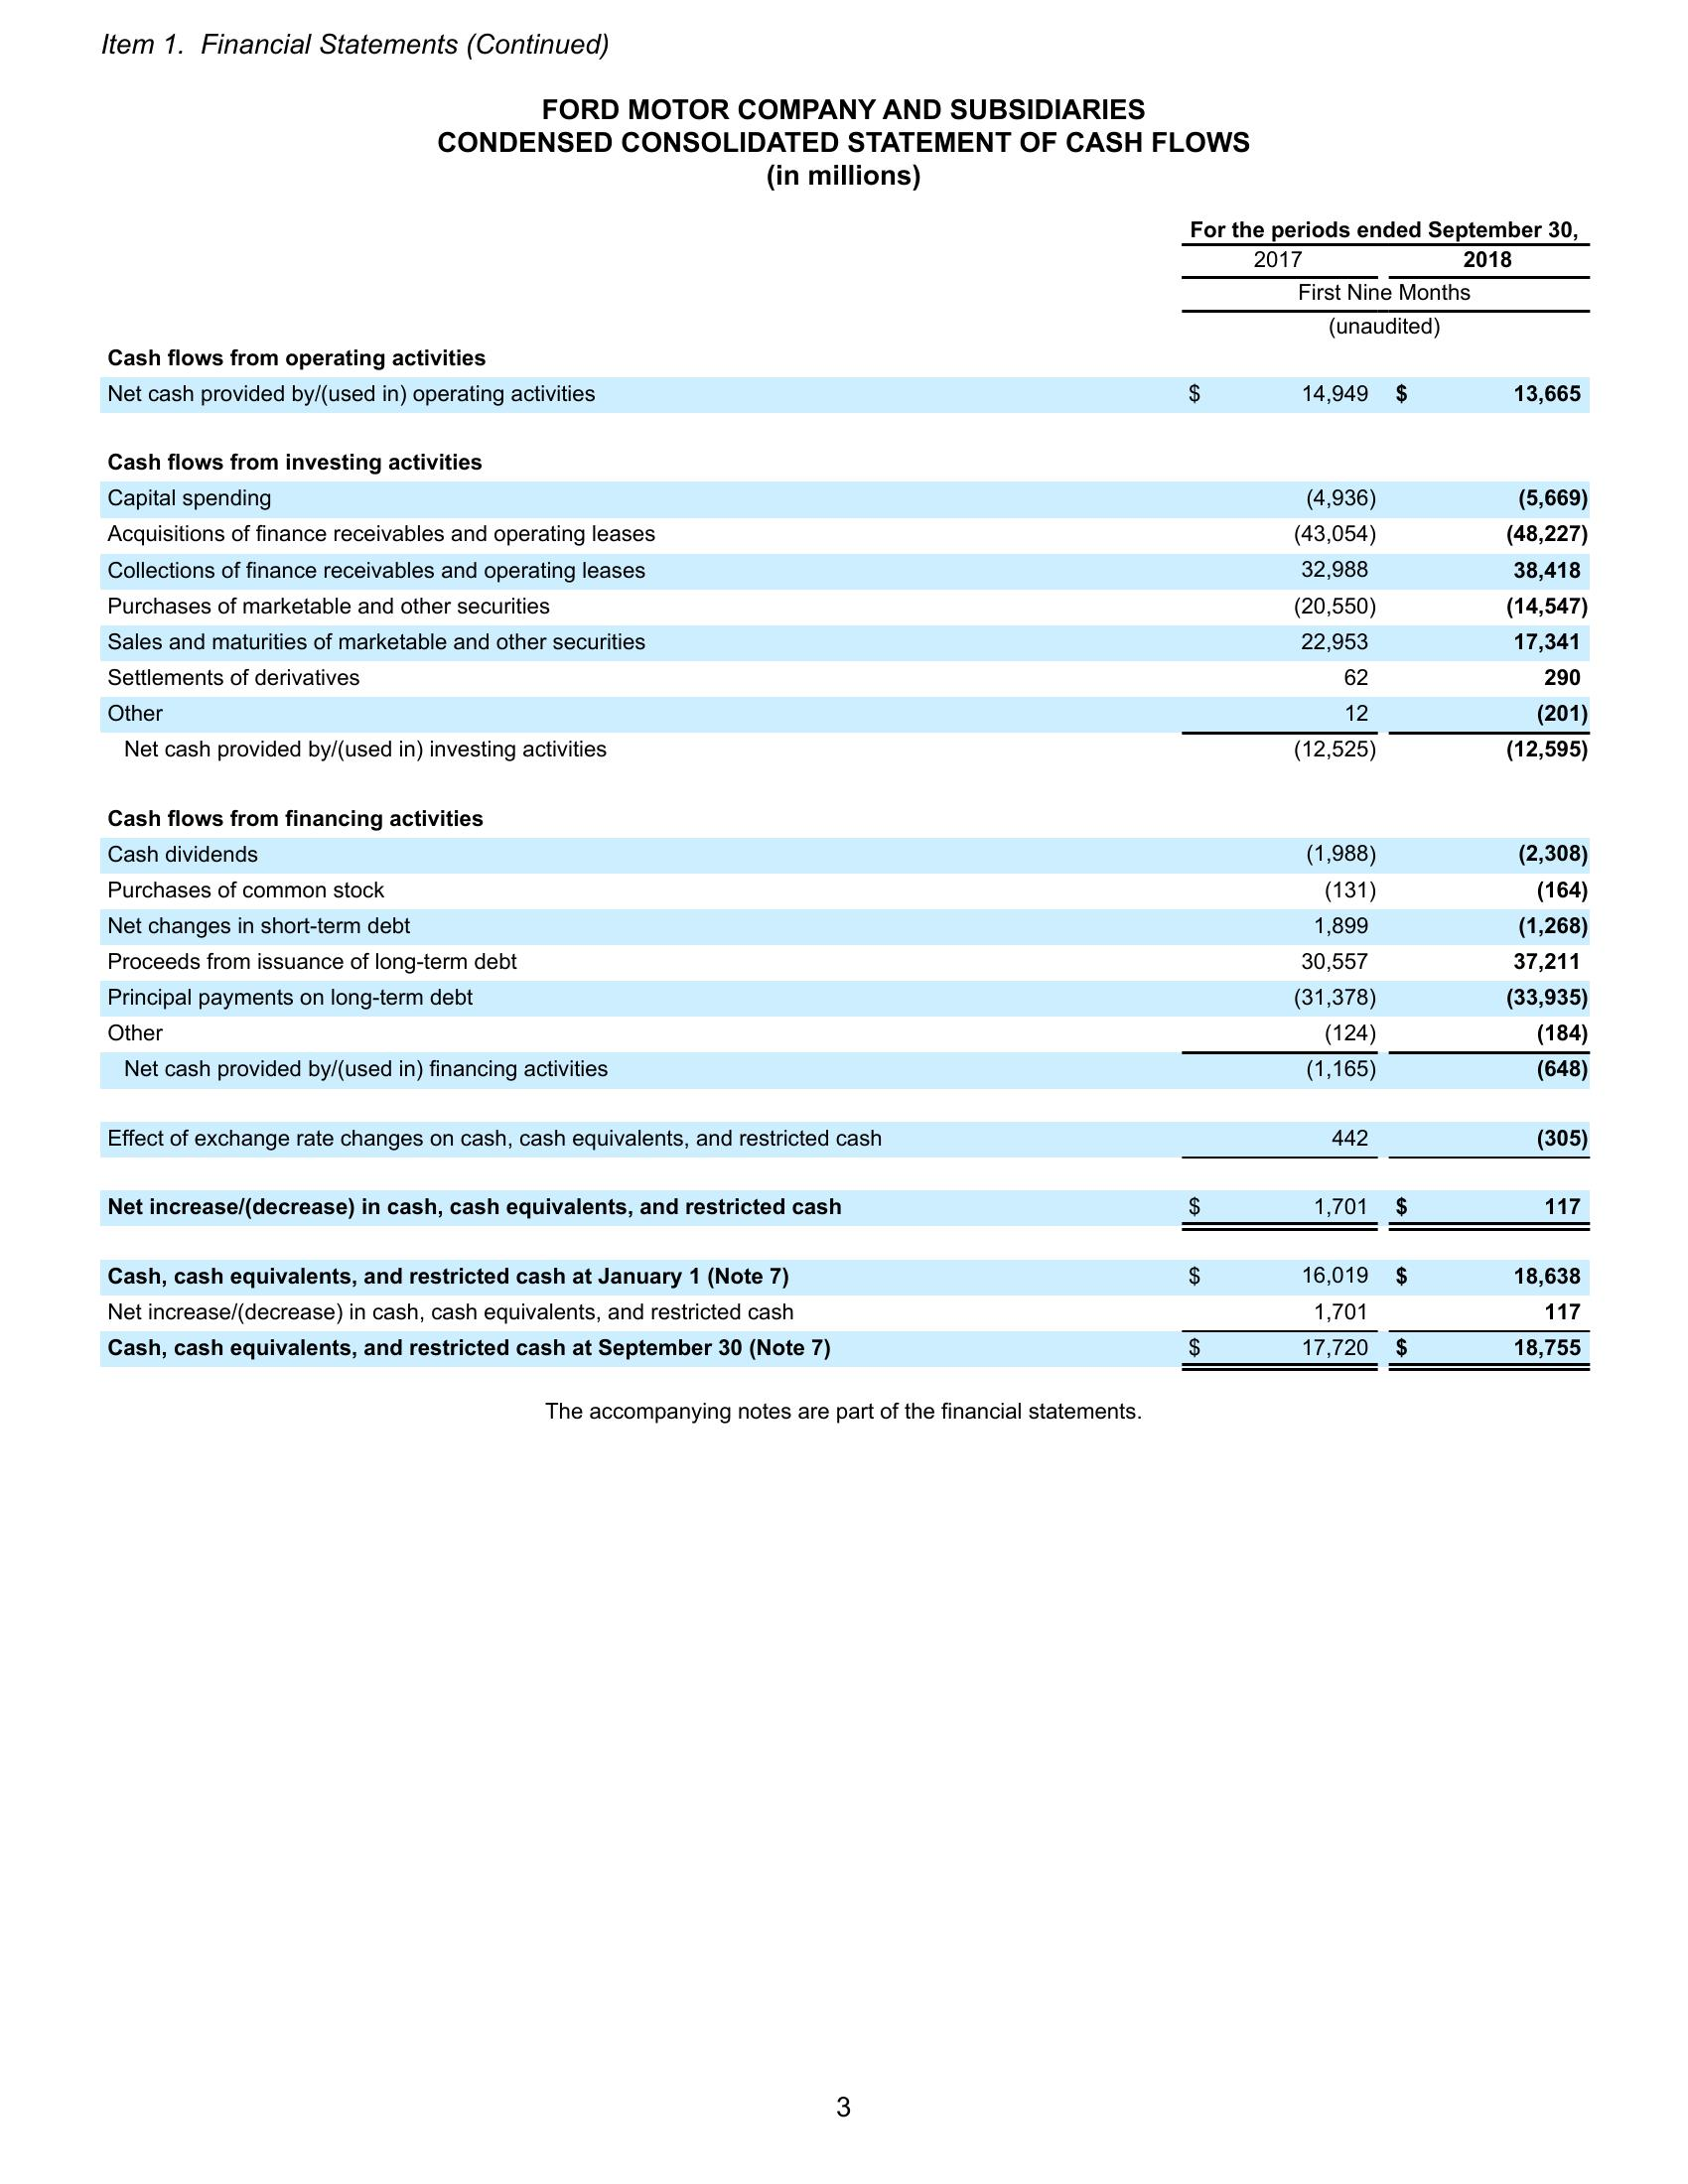table: (94, 213, 1596, 1377)
